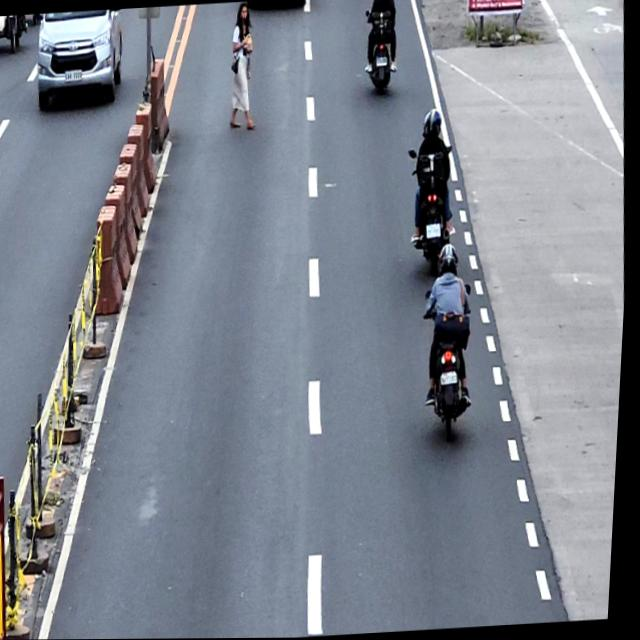Car: (33, 9, 127, 111)
License-Plate: (428, 224, 444, 241), (444, 372, 462, 387), (65, 69, 84, 83), (376, 58, 389, 69)
Motorcycle: (420, 283, 482, 443), (404, 145, 460, 279), (361, 8, 398, 95)
